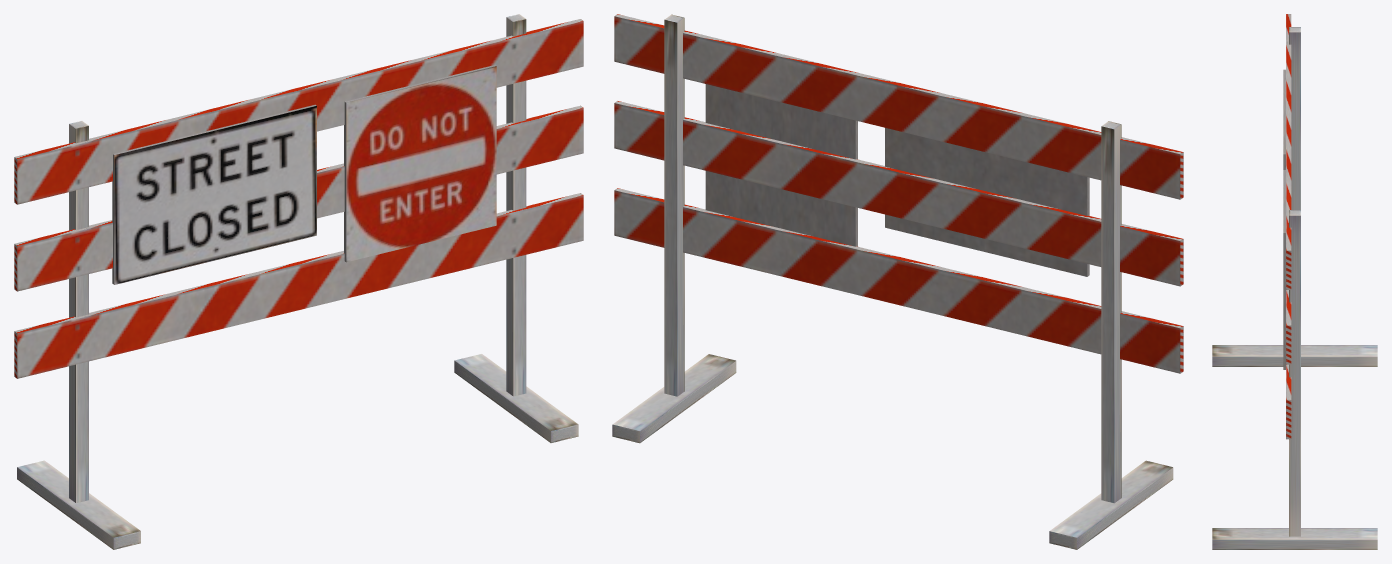
File: D_rclose_02.FBX
3 renders of one model, left to right at view 1: azimuth 30°, elevation 25°; view 2: azimuth 150°, elevation 25°; view 3: azimuth 270°, elevation 25°, orthographic. The views are drawn at different scales.
Parts seen in each view (by area): view 1: Box006; view 2: Box006; view 3: Box006.
Part boxes in pixels (<box>): Box006: <box>14,14,583,549</box>; Box006: <box>612,14,1183,549</box>; Box006: <box>1212,14,1377,549</box>.
Bounding box in the file's own units: 7.42 × 4.84 × 2.19.
